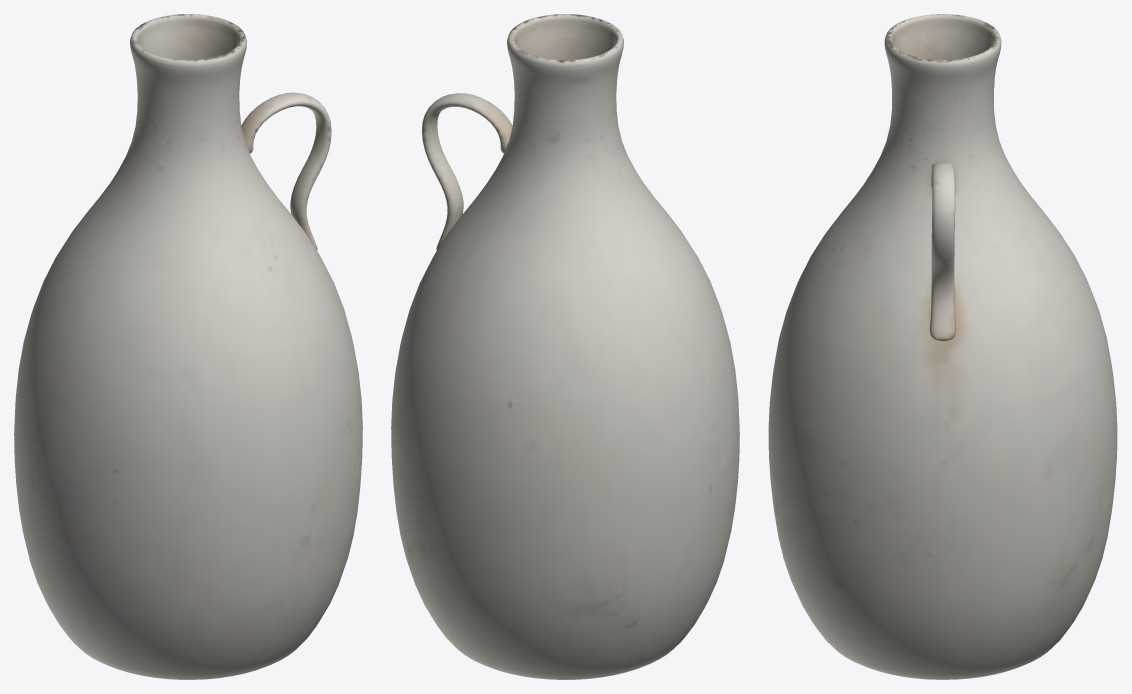
File: ceramic_vase_04.glb
3 views of the same model, side by side, from view 1: azimuth 30°, elevation 25°; view 2: azimuth 150°, elevation 25°; view 3: azimuth 270°, elevation 25° (orthographic).
Parts seen in each view (by area): view 1: ceramic_vase_04; view 2: ceramic_vase_04; view 3: ceramic_vase_04.
Part boxes in pixels (<box>): ceramic_vase_04: <box>14,14,362,679</box>; ceramic_vase_04: <box>391,14,739,679</box>; ceramic_vase_04: <box>768,14,1117,679</box>.
Size of the model in its own units: 0.1811 by 0.3419 by 0.1811.
Materials: 1 (1 with a texture image).
